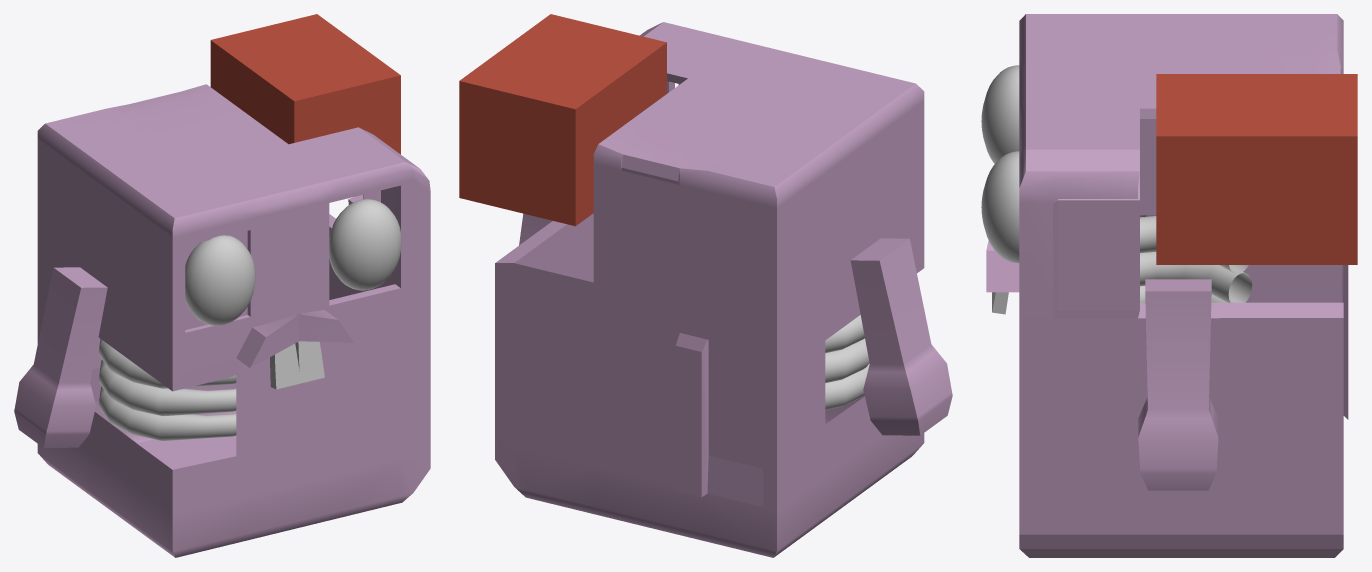
File: Zombie.fbx
3 renders of one model, left to right at view 1: azimuth 30°, elevation 25°; view 2: azimuth 150°, elevation 25°; view 3: azimuth 270°, elevation 25°, orthographic. The views are drawn at different scales.
Parts seen in each view (by area): view 1: pCube4, Brains, pCube6, pSphere2, pSphere1, pTorus3, pTorus4, pTorus2, pCube2, pCube3; view 2: pCube4, Brains, pCube6, pTorus3, pTorus4, pTorus2; view 3: pCube4, Brains, pCube7, pSphere2, pSphere1, pTorus3, pTorus2.
Boxes of the visible parts, bbox=[...] form: pCube4: bbox=[37, 84, 430, 557]; Brains: bbox=[210, 14, 400, 154]; pCube6: bbox=[14, 267, 107, 447]; pSphere2: bbox=[329, 199, 401, 290]; pSphere1: bbox=[185, 235, 255, 325]; pTorus3: bbox=[98, 360, 236, 416]; pTorus4: bbox=[98, 386, 236, 440]; pTorus2: bbox=[98, 339, 236, 388]; pCube2: bbox=[270, 343, 299, 389]; pCube3: bbox=[295, 341, 324, 383]; pCube4: bbox=[495, 22, 924, 557]; Brains: bbox=[459, 14, 666, 226]; pCube6: bbox=[850, 238, 952, 435]; pTorus3: bbox=[825, 338, 869, 382]; pTorus4: bbox=[825, 363, 869, 410]; pTorus2: bbox=[825, 315, 864, 352]; pCube4: bbox=[986, 14, 1348, 557]; Brains: bbox=[1156, 74, 1357, 264]; pCube7: bbox=[1138, 279, 1218, 490]; pSphere2: bbox=[981, 151, 1019, 263]; pSphere1: bbox=[981, 65, 1019, 163]; pTorus3: bbox=[1140, 252, 1252, 302]; pTorus2: bbox=[1140, 216, 1248, 273].
Size of the model in its own units: 7.84 by 7.35 by 5.54.
